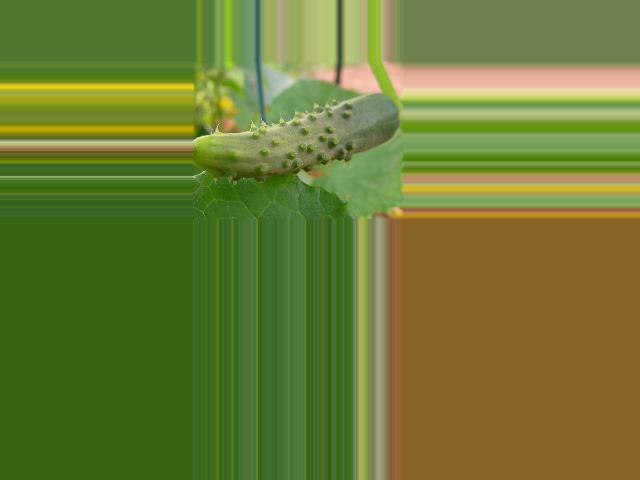cucumber: (193, 93, 400, 181)
